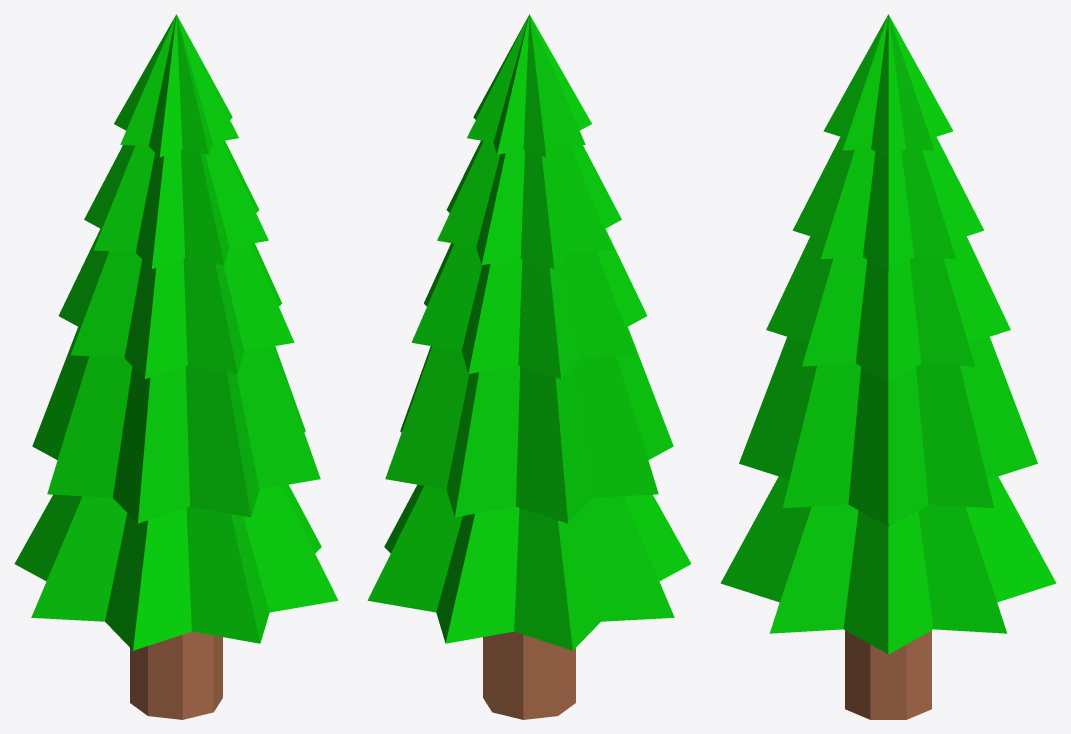
File: Pine_Tree 1.fbx
3 views of the same model, side by side, from view 1: azimuth 30°, elevation 25°; view 2: azimuth 150°, elevation 25°; view 3: azimuth 270°, elevation 25° (orthographic).
Parts seen in each view (by area): view 1: Leaves; view 2: Leaves; view 3: Leaves.
Part boxes in pixels (left/top/right/bottom): Leaves: left=14, top=14, right=338, bottom=719; Leaves: left=367, top=14, right=691, bottom=719; Leaves: left=720, top=14, right=1056, bottom=719.
Bounding box in the file's own units: 400 × 903 × 400.
